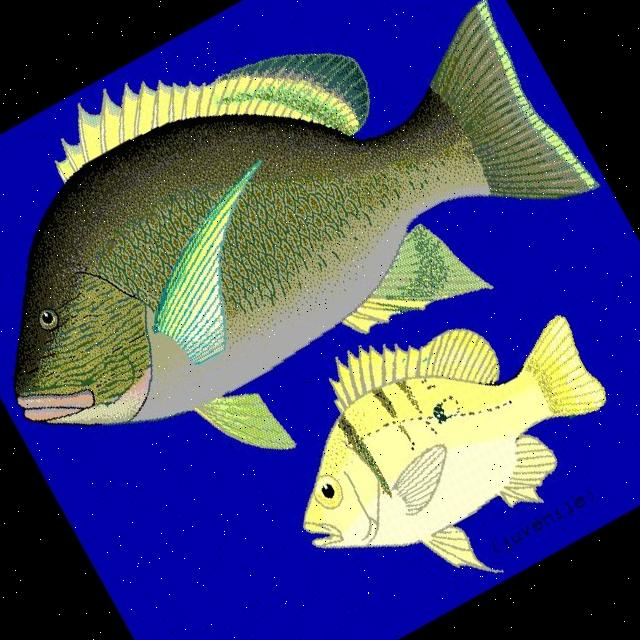ikan: (0, 0, 634, 545), (236, 247, 640, 640)
